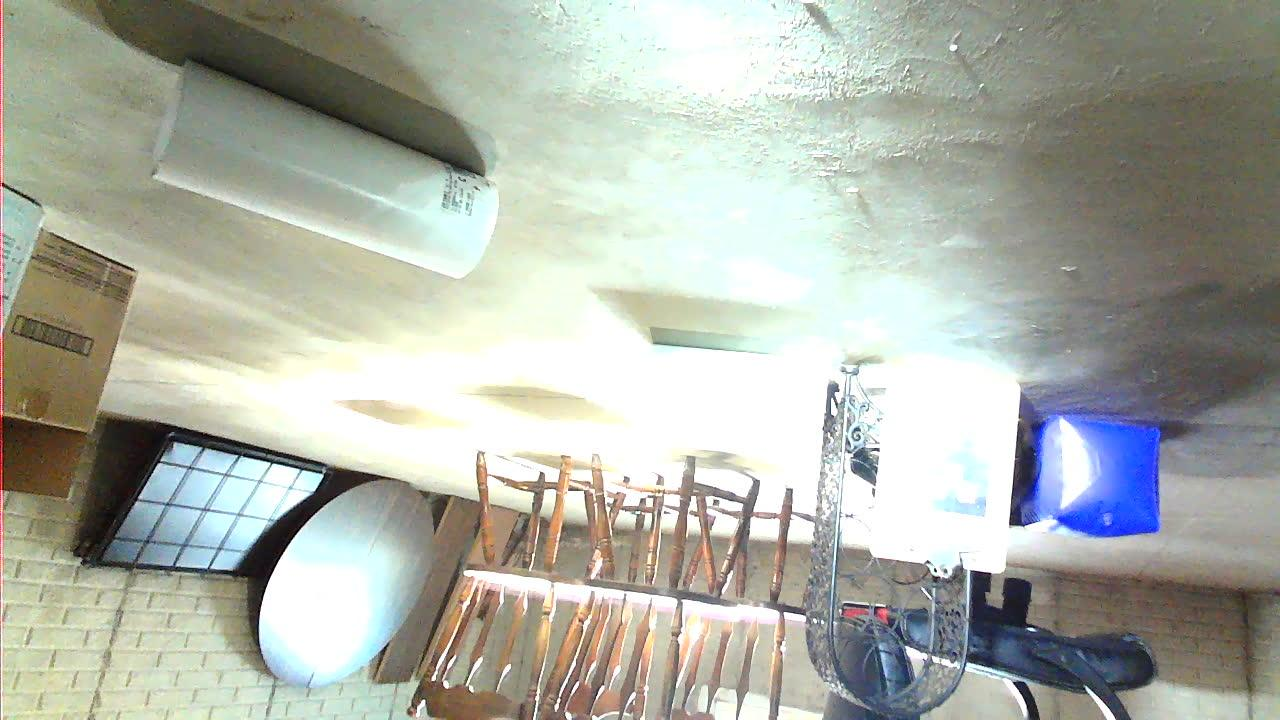coral: (781, 440, 1131, 663)
